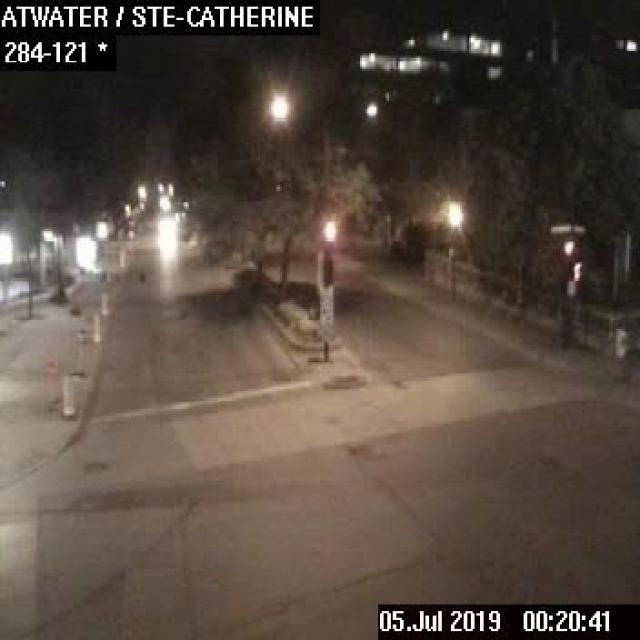construction: (58, 376, 74, 416), (89, 314, 100, 340), (100, 290, 106, 314), (118, 246, 123, 266)
